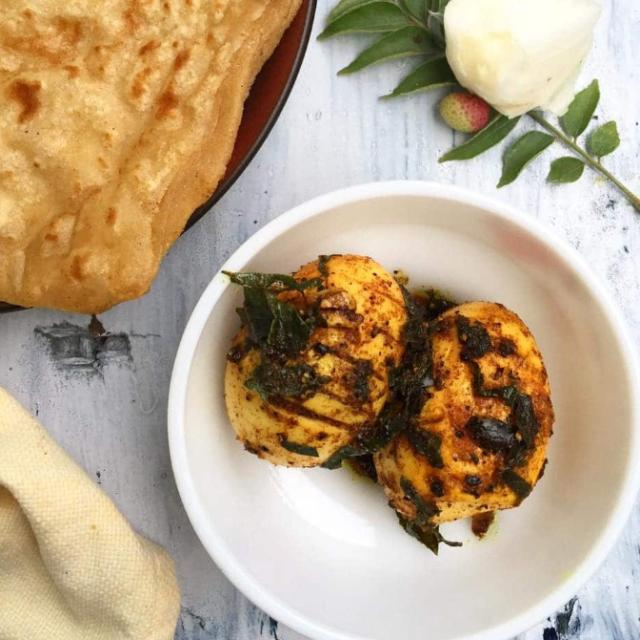EGG: (226, 254, 554, 550)
